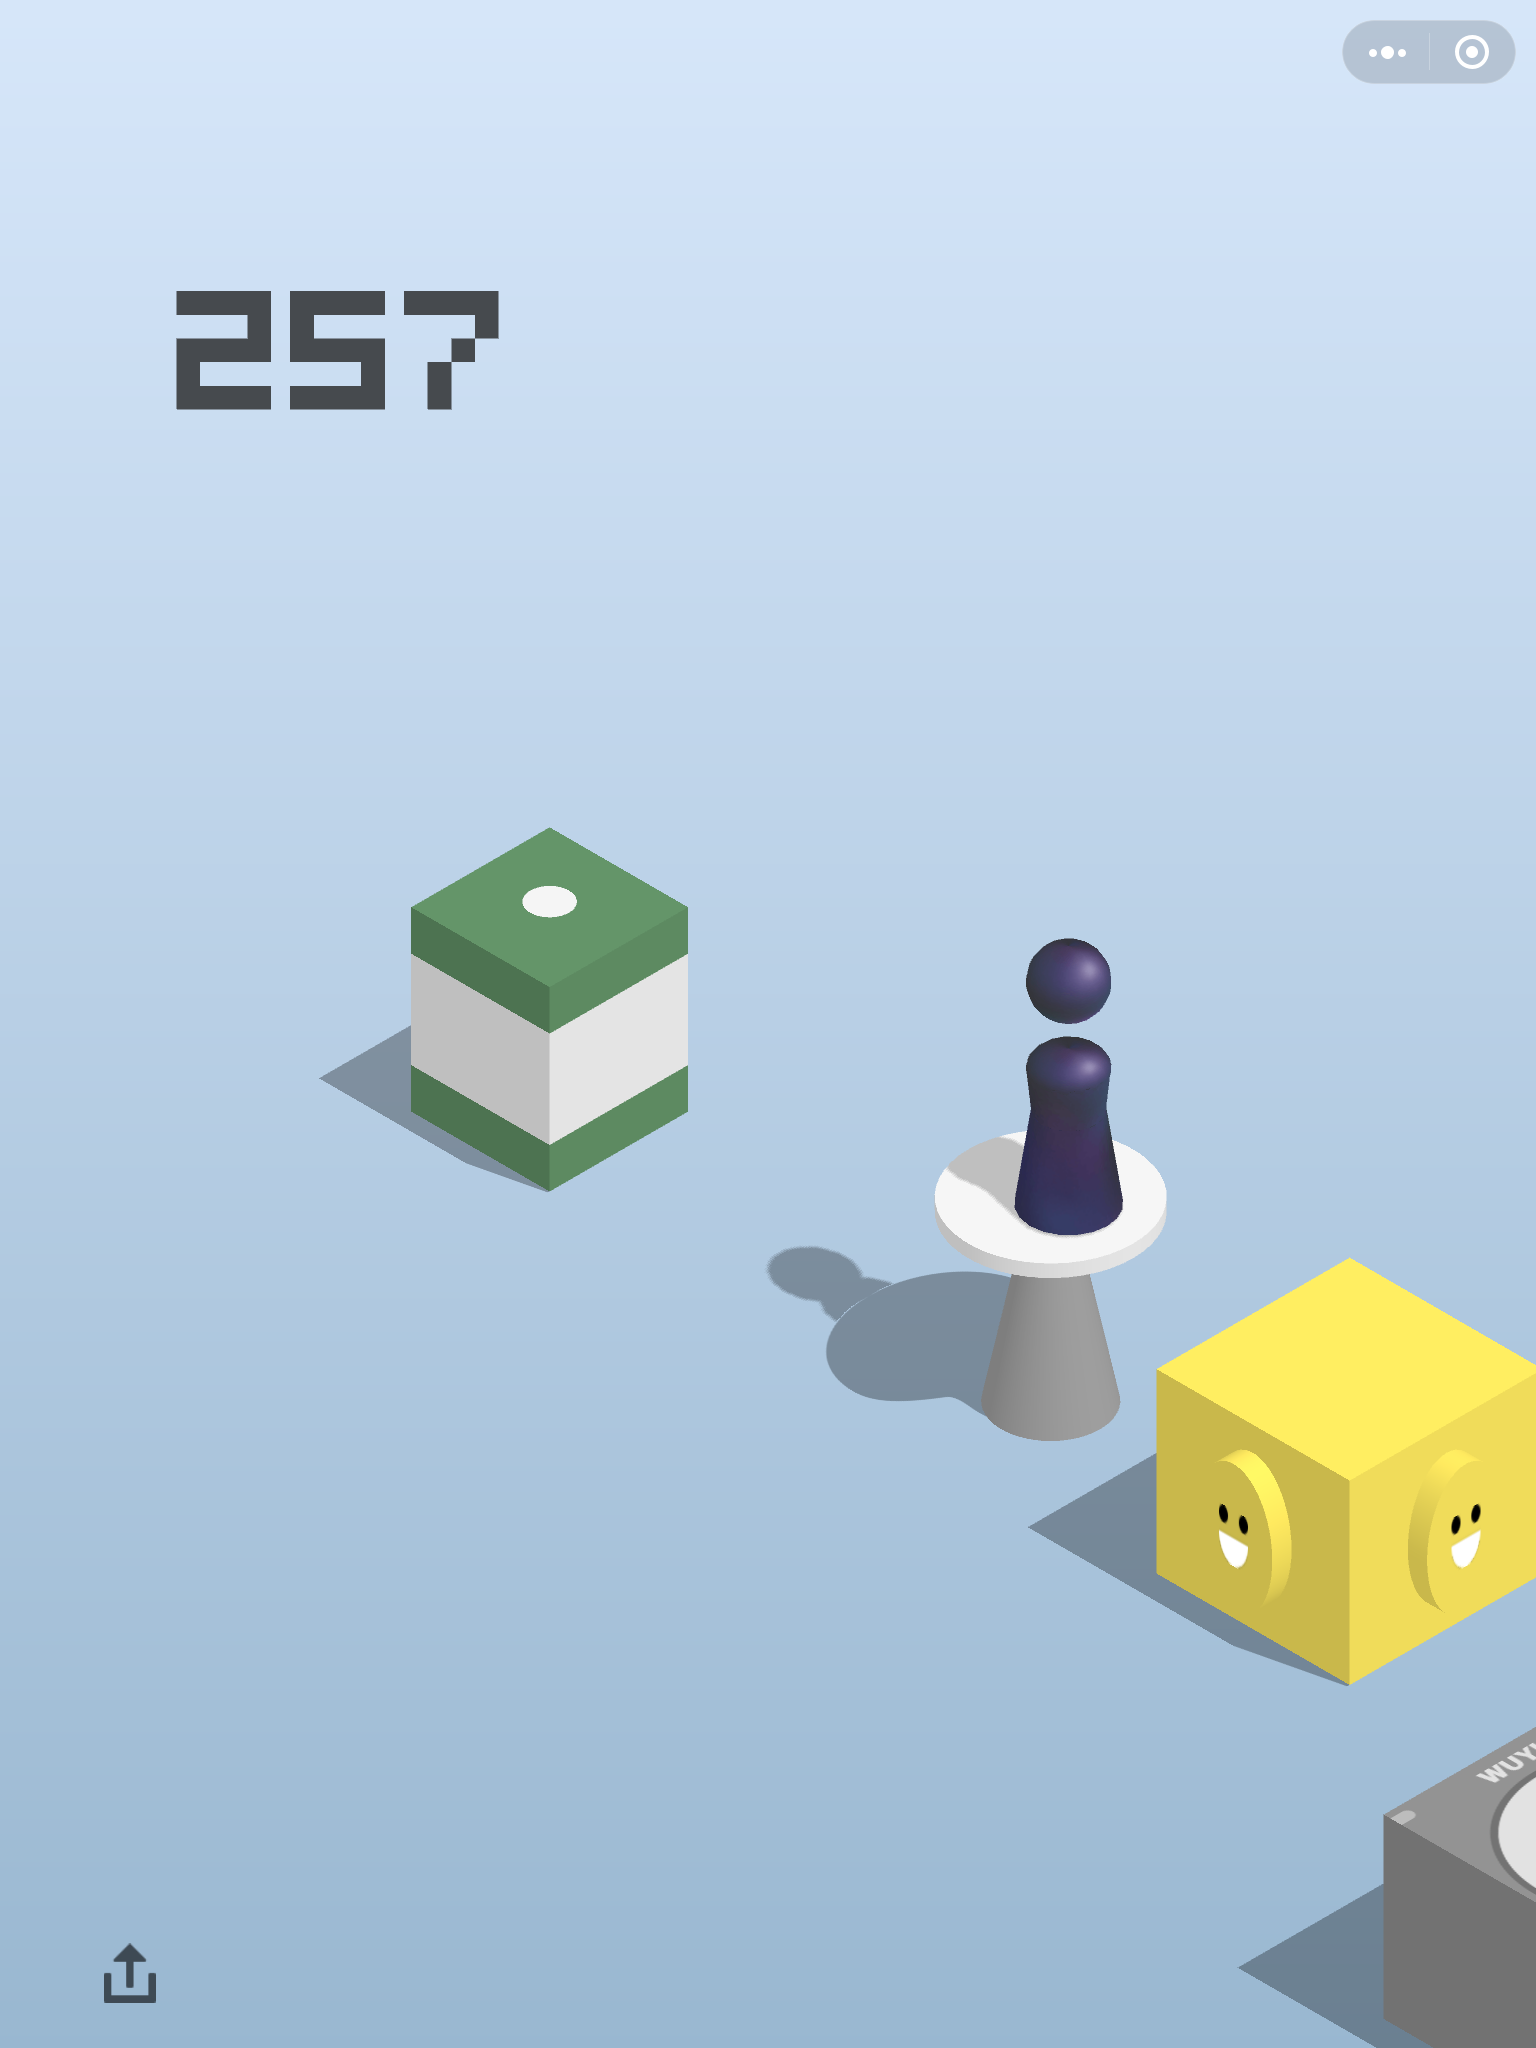c: (933, 1127, 1170, 1443)
f: (1154, 1255, 1536, 1685), (405, 826, 694, 1197), (1378, 1722, 1536, 2048)
r: (1013, 937, 1126, 1237)
